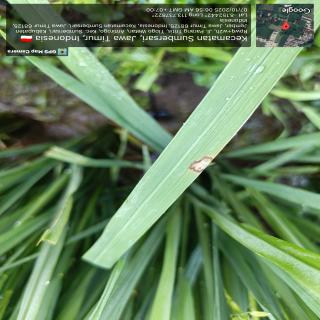Blast: (186, 153, 216, 174)
